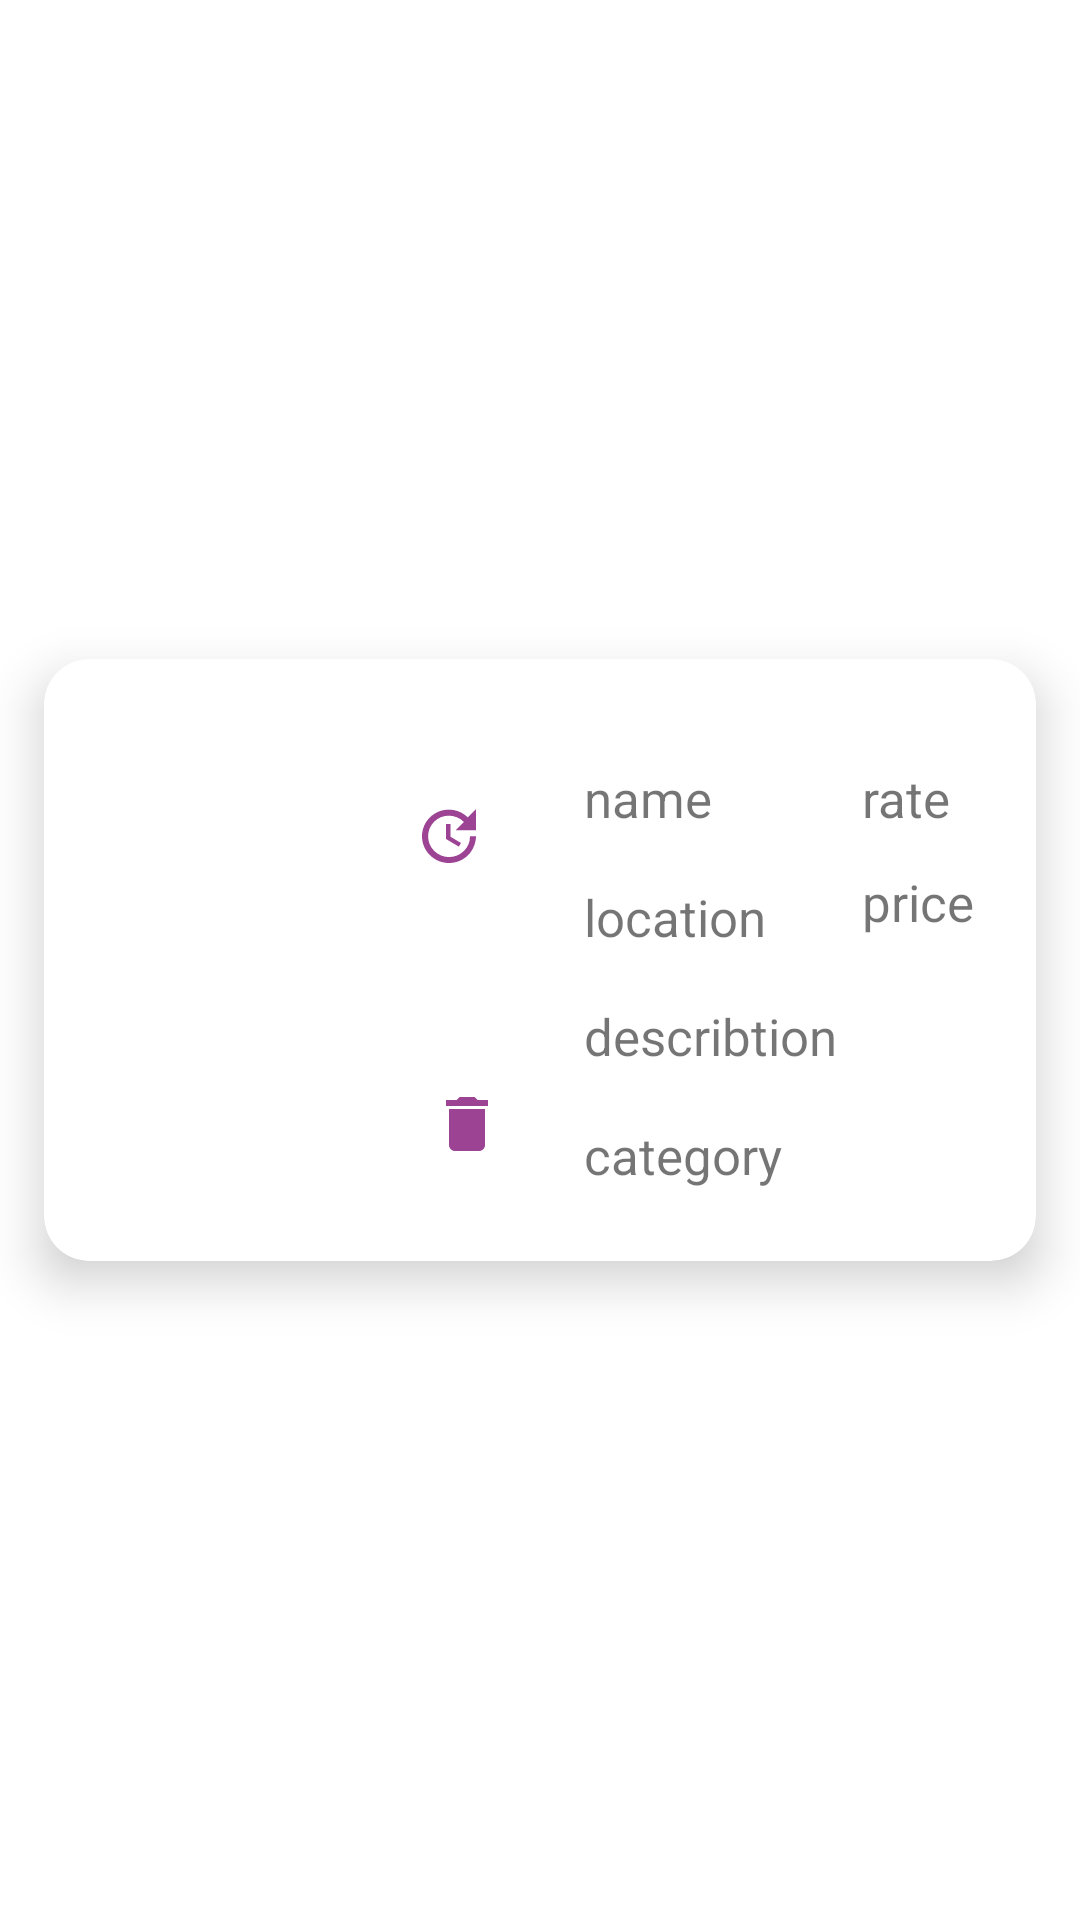

Where icons sit on this 1080×1920 app screen, as (x1, y1, x2, y2):
delete: (446, 1097, 488, 1151)
update: (422, 809, 476, 863)
